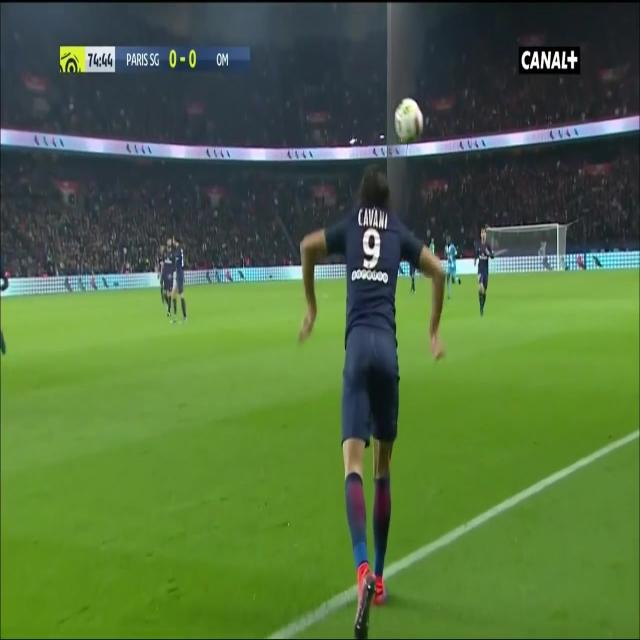Ball: (392, 93, 426, 145)
Player: (296, 161, 451, 640), (474, 223, 495, 319), (172, 232, 188, 327), (443, 231, 461, 302), (160, 236, 174, 320)
